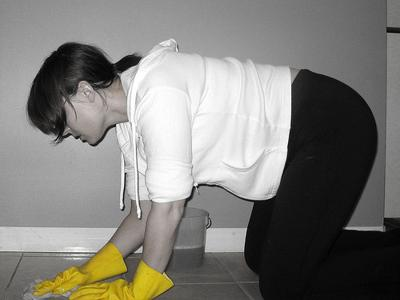person: (26, 38, 400, 300)
